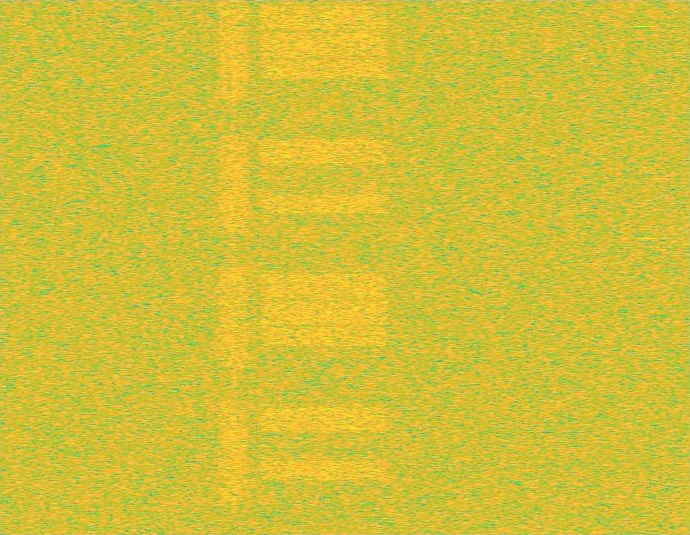5G: (217, 0, 251, 534)
DSSS: (232, 0, 236, 534)
LTE: (255, 0, 393, 534)
Radar: (639, 0, 652, 534)
